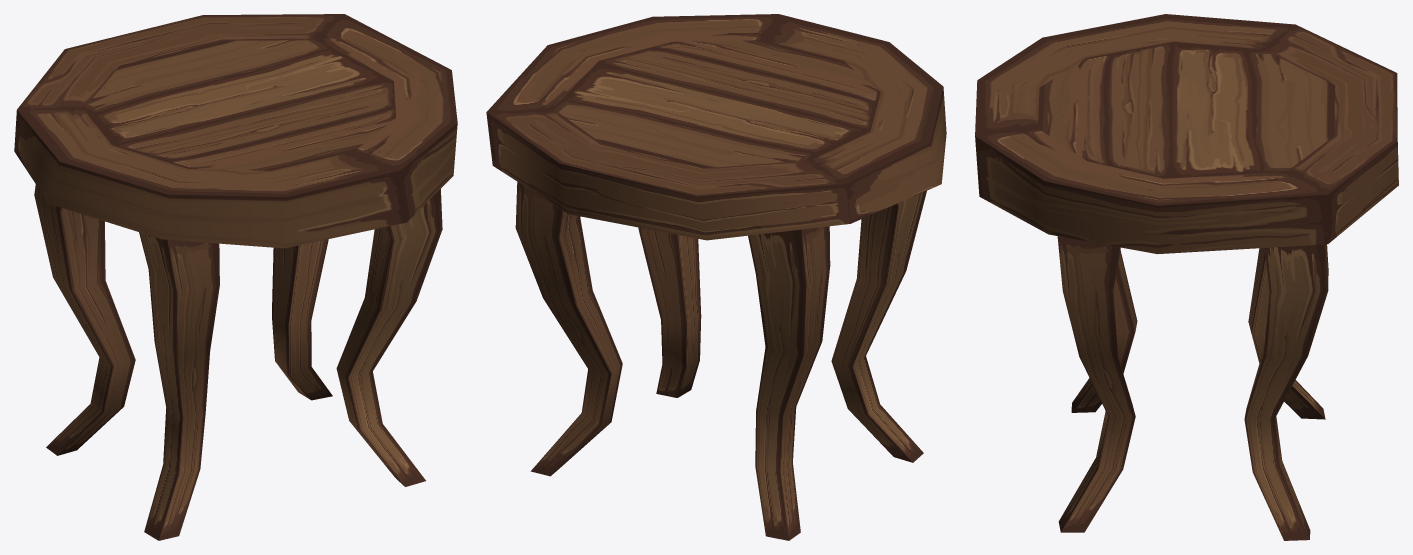
The model's file is SM_PROP_table_interior_05.fbx.
3 views of the same model, side by side, from view 1: azimuth 30°, elevation 25°; view 2: azimuth 150°, elevation 25°; view 3: azimuth 270°, elevation 25° (orthographic).
Visible parts, largest first — view 1: SM_PROP_table_interior_05; view 2: SM_PROP_table_interior_05; view 3: SM_PROP_table_interior_05.
Part boxes in pixels (x1=…): SM_PROP_table_interior_05: x1=14, y1=14, x2=457, y2=540; SM_PROP_table_interior_05: x1=486, y1=14, x2=946, y2=540; SM_PROP_table_interior_05: x1=975, y1=14, x2=1398, y2=540.
Bounding box in the file's own units: 90.03 × 77.2 × 81.73.
